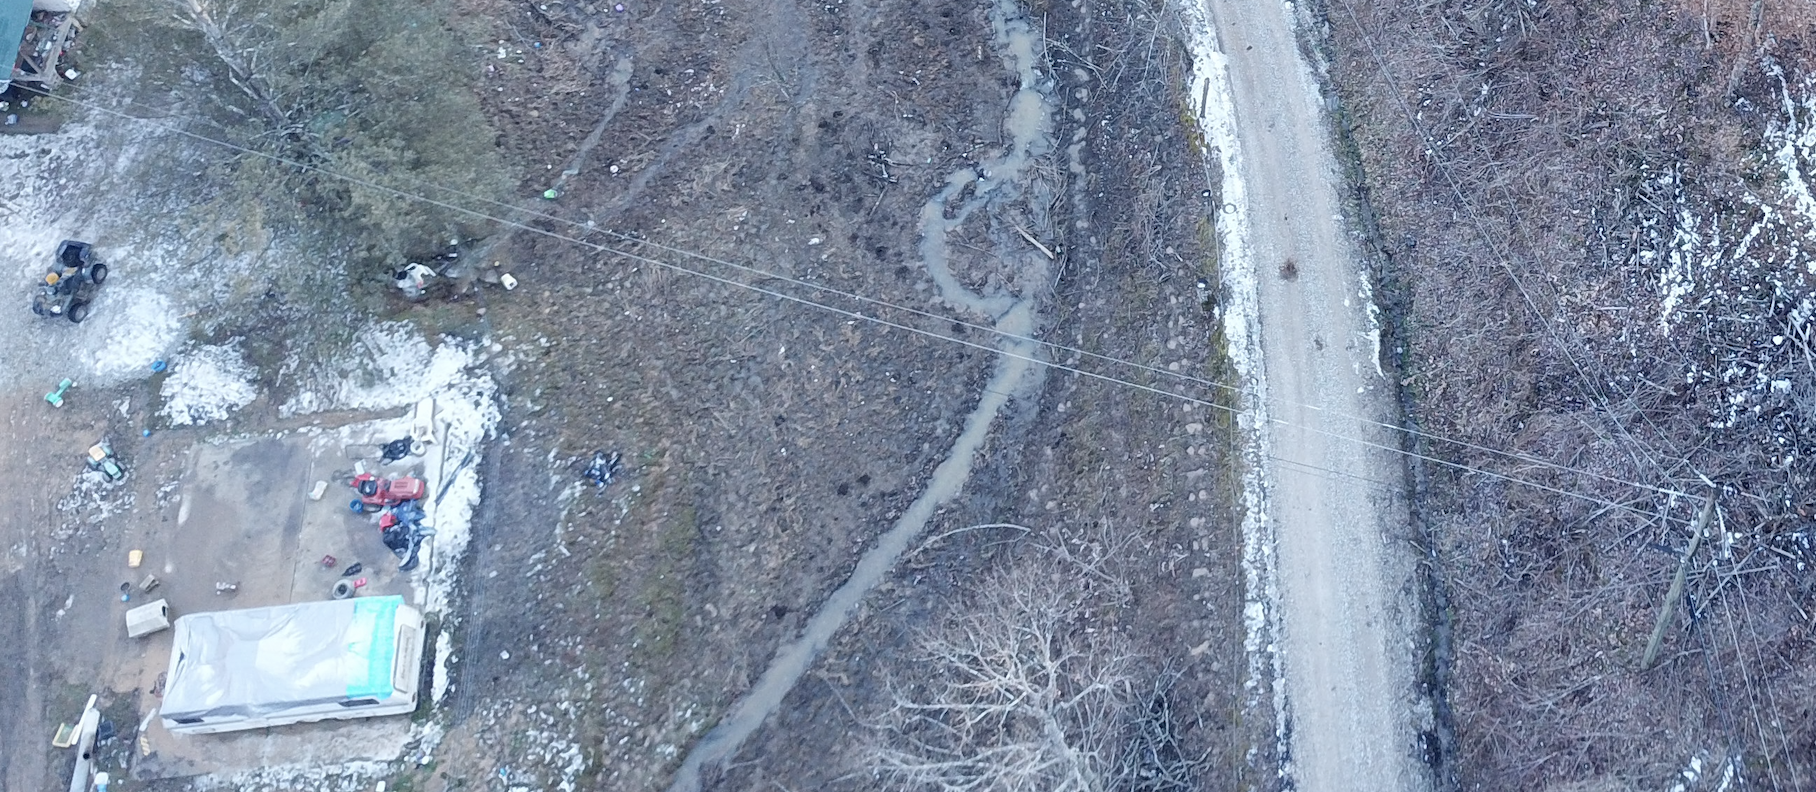pole: (1617, 442, 1784, 738)
